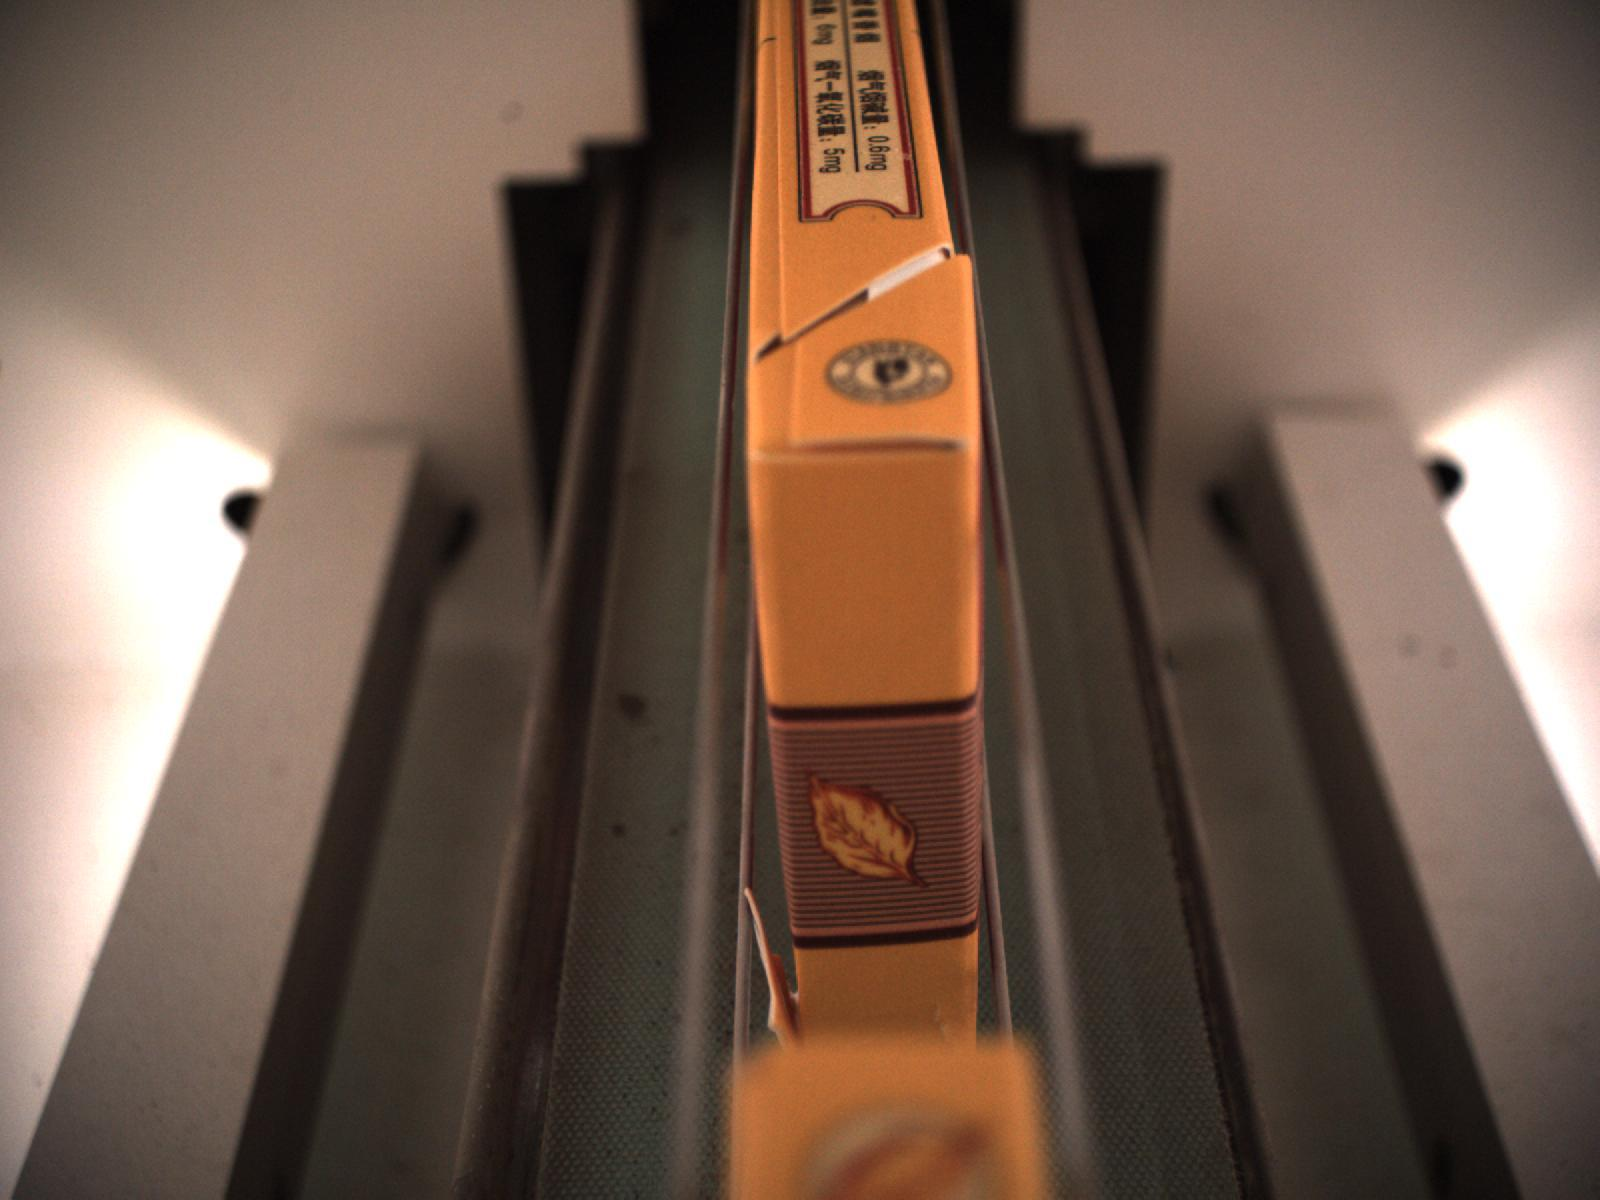headDamage_upper_2: (751, 347, 974, 464)
skewed_upper_2: (749, 35, 804, 361)
